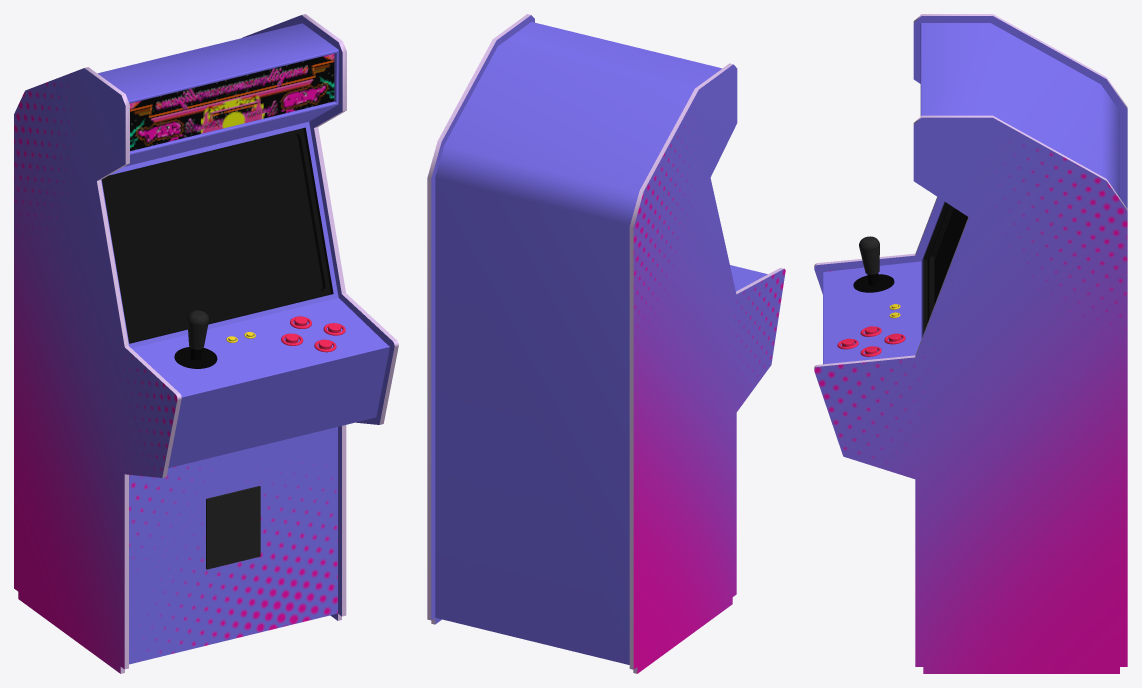
The picture shows the model from 3 angles, left to right: view 1: azimuth 30°, elevation 25°; view 2: azimuth 150°, elevation 25°; view 3: azimuth 270°, elevation 25°; orthographic projection. The views are drawn at different scales.
Parts seen in each view (by area): view 1: Machine, Machine_part, Joystick; view 2: Machine; view 3: Machine, Joystick.
Boxes of the visible parts, <box> form: Machine: <box>14,14,398,673</box>; Machine_part: <box>206,486,260,569</box>; Joystick: <box>174,310,217,368</box>; Machine: <box>427,14,785,673</box>; Machine: <box>814,14,1127,673</box>; Joystick: <box>853,236,894,292</box>.
Bounding box in the file's own units: 0.7872 × 1.97 × 1.01.
1 material, 1 textured.
